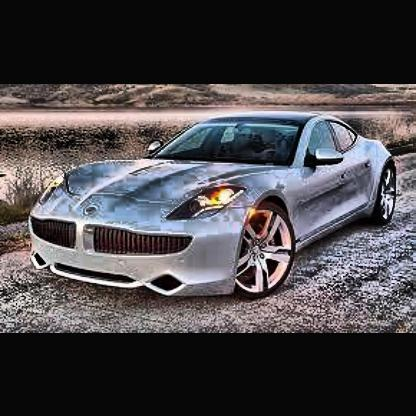Fisker Karma Sedan 2012: (26, 109, 403, 306)
